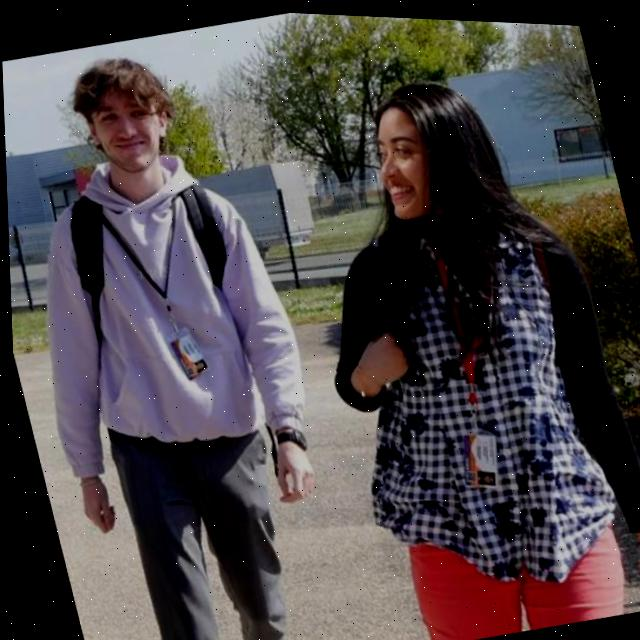id_card: (79, 170, 221, 391), (402, 238, 524, 485)
